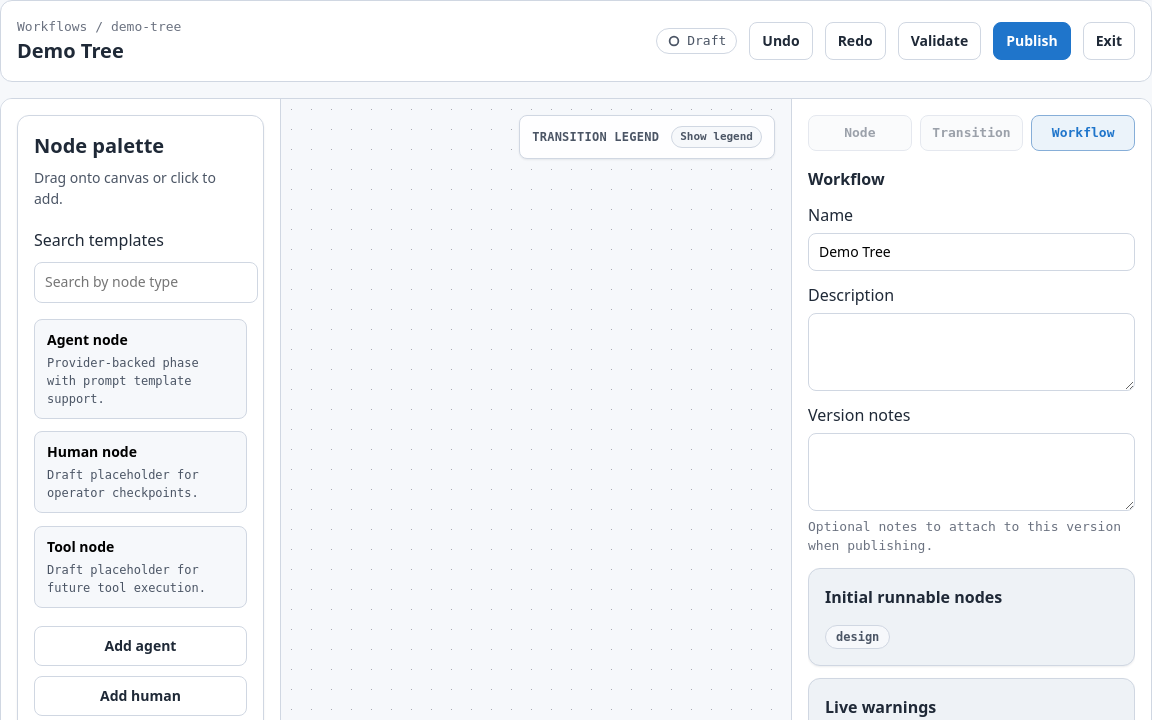
Test: WorkflowEditorPageContent › autosaves the latest workflow name after the idle timeout
Replace the text in the field labelled "Name" with "Updated Tree" at (972,252), box [808,232,1135,270]
Wait 1000 ms
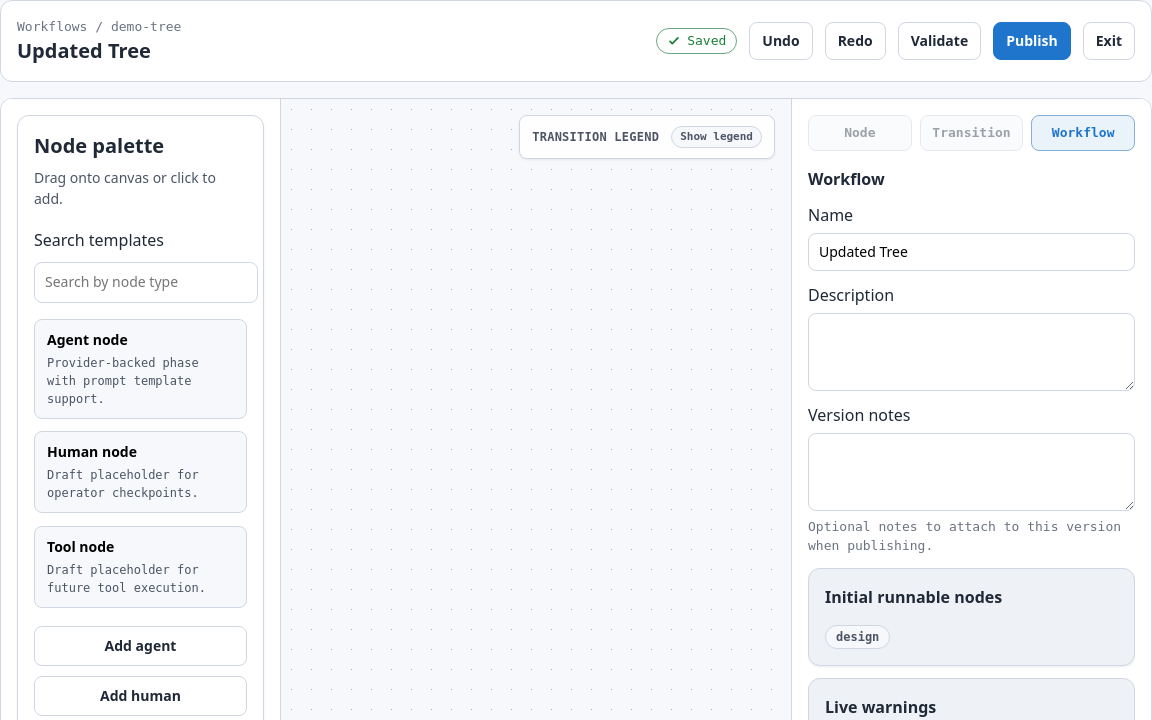
Now the heading "Updated Tree" is shown, box [17,36,151,64]
